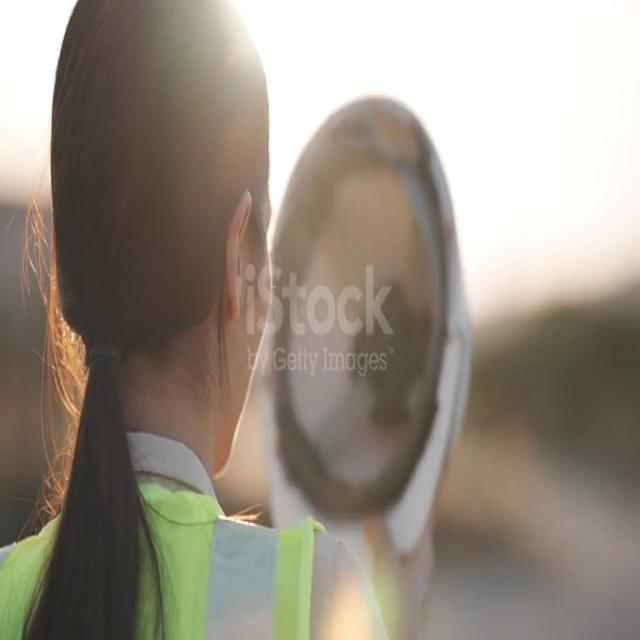capacete: (272, 84, 477, 575)
